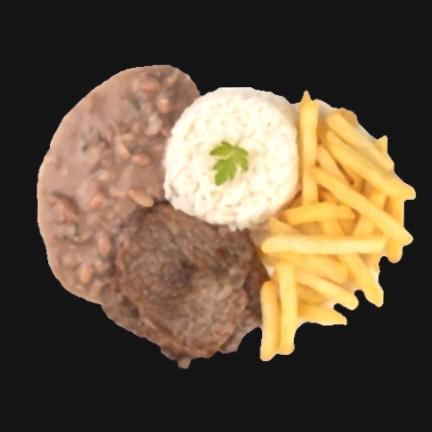beans: (39, 66, 202, 300)
meat: (98, 200, 271, 360)
potato: (247, 92, 416, 361)
rice: (163, 87, 301, 232)
